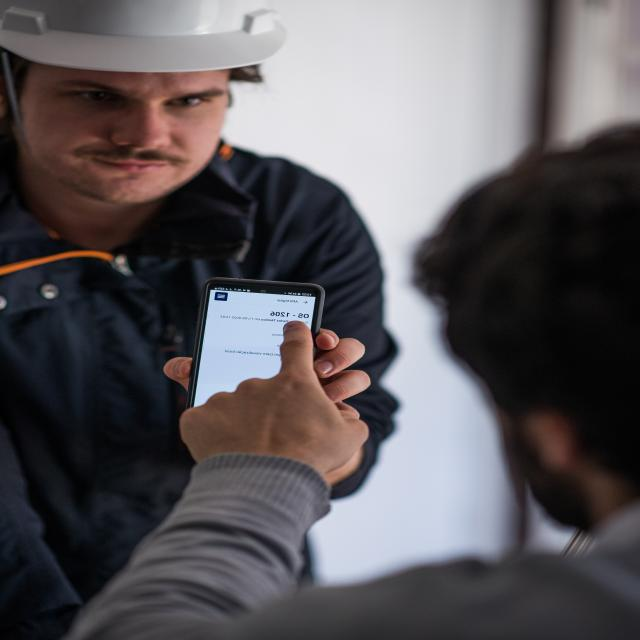capacete: (0, 0, 296, 81)
